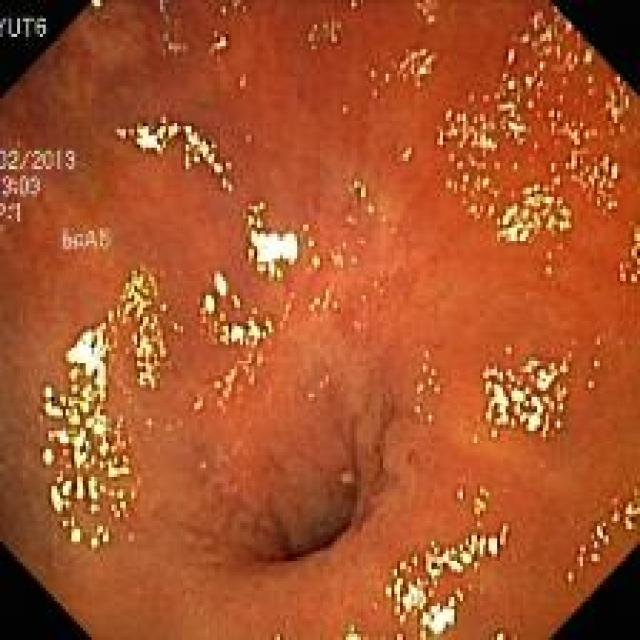ulcerative-colitis-grade-1: (1, 1, 640, 640)
